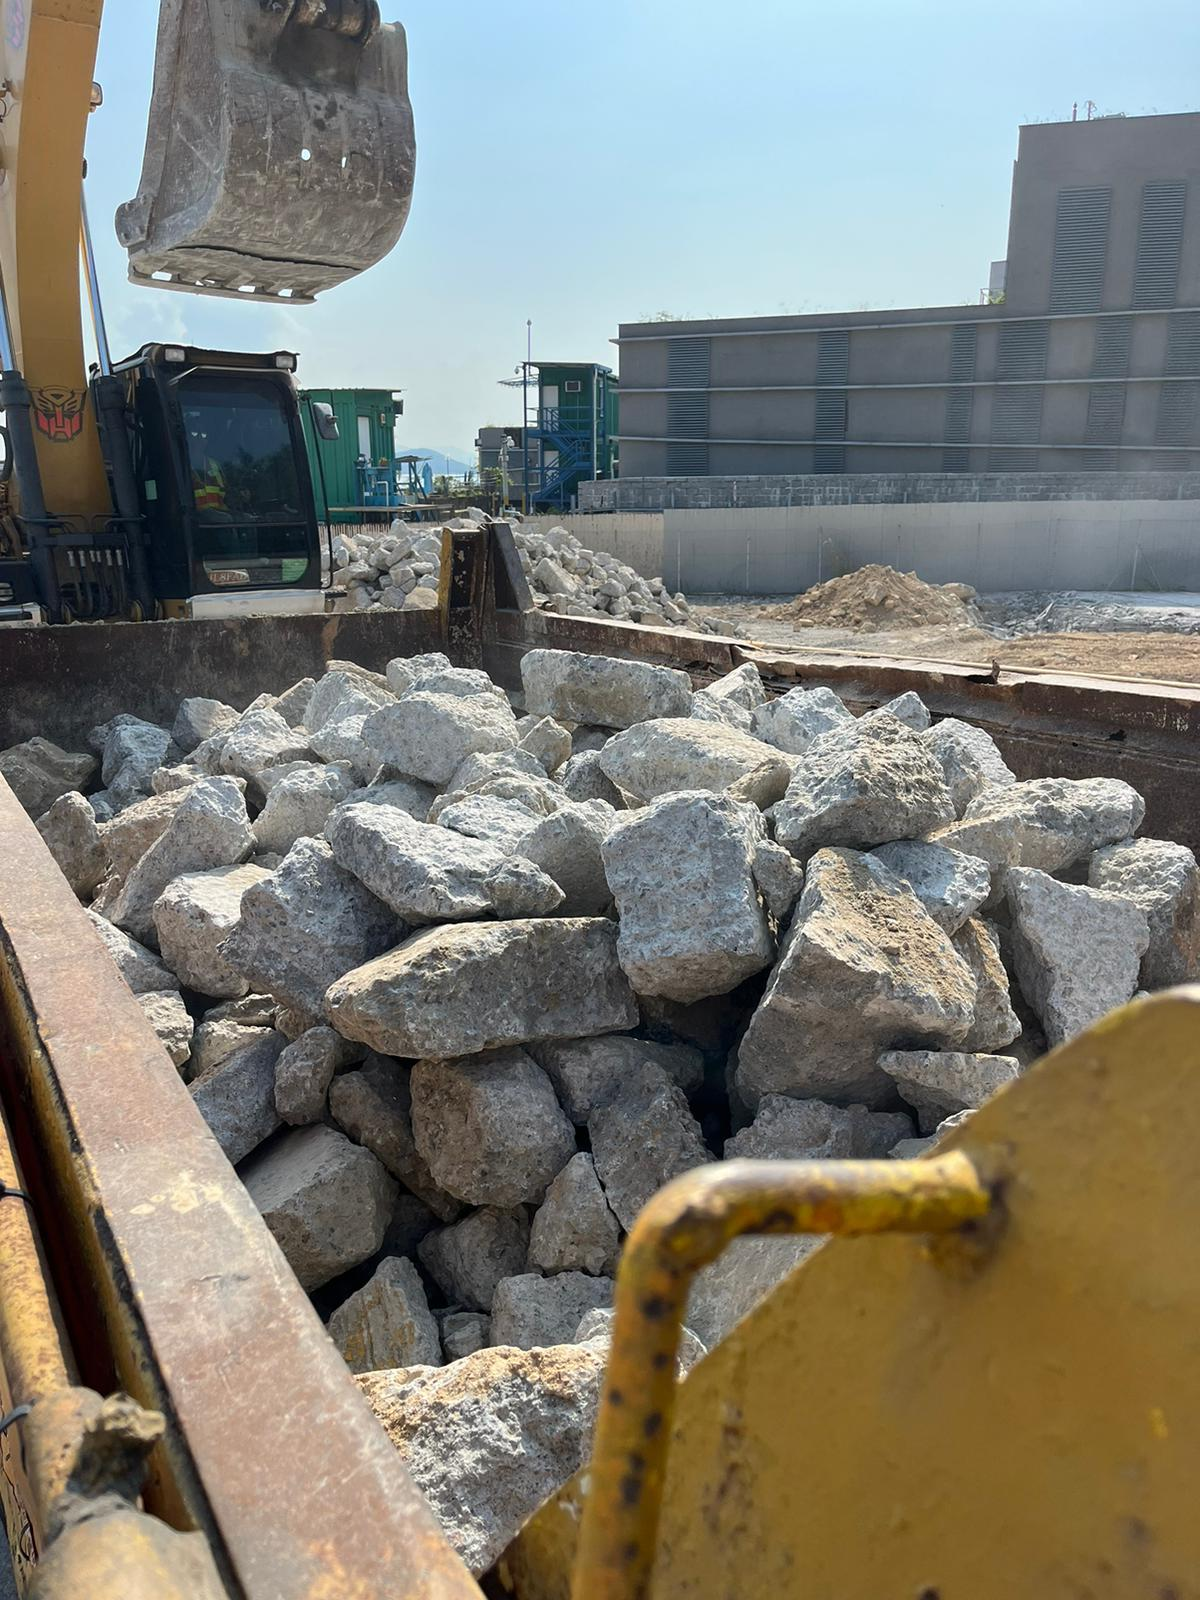dry: (15, 655, 1200, 1557)
